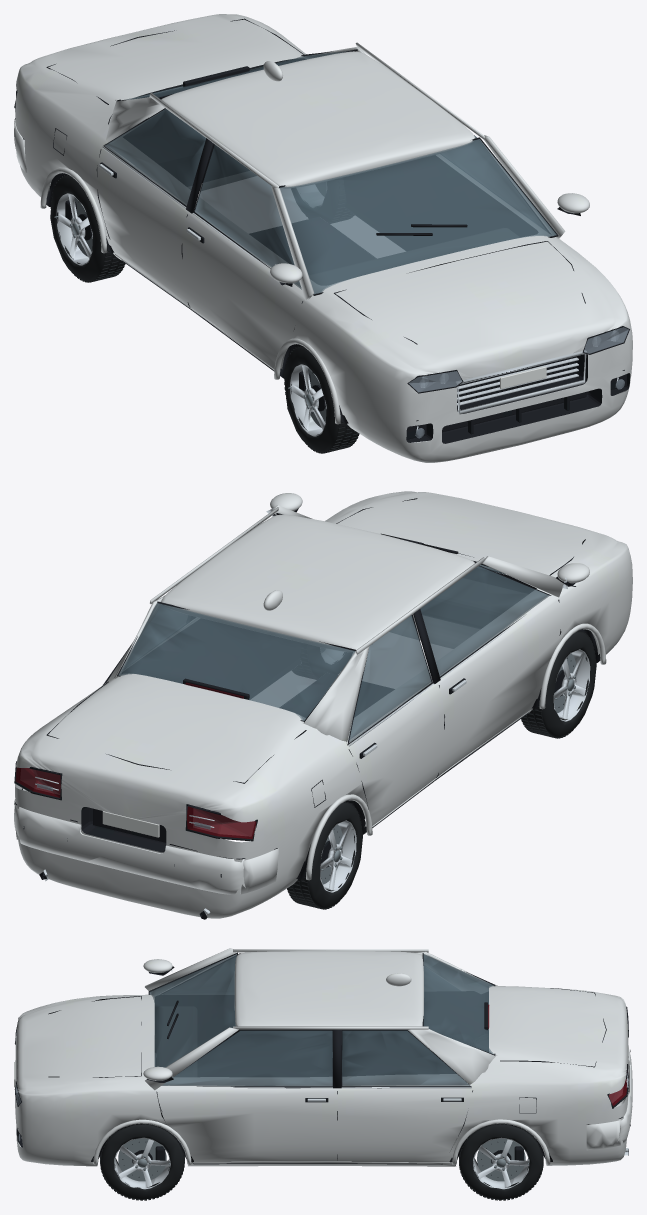
The model's file is car-sedan2.glb.
3 views of the same model, one above another, from view 1: azimuth 30°, elevation 25°; view 2: azimuth 150°, elevation 25°; view 3: azimuth 270°, elevation 25° (orthographic). The views are drawn at different scales.
Visible parts, largest first — view 1: Aerodynamic mirror painted cap, Front side door glass, Aerodynamic mirror lower housing, Beltline satin bead, 107 reused Sculpted_tyre.003, 107 reused Sculpted_tyre.001, Instrument panel, Clear reversing lens insert, 107 reused Alloy_five_spoke_rim.003, 107 reused Alloy_five_spoke_rim.001, 107 reused Sculpted_tyre.002, Brake rotor hat.003; view 2: Aerodynamic mirror painted cap, Front side door glass, Aerodynamic mirror lower housing, Instrument panel, 107 reused Sculpted_tyre.003, 107 reused Sculpted_tyre.001, Flush corner wrapping ruby lamp lens, Beltline satin bead, 107 reused Alloy_five_spoke_rim.003, 107 reused Alloy_five_spoke_rim.001, Brake rotor hat.003, 107 reused Sculpted_tyre (+1 smaller); view 3: Aerodynamic mirror painted cap, Front side door glass, Aerodynamic mirror lower housing, 107 reused Sculpted_tyre.002, 107 reused Sculpted_tyre, Instrument panel, 107 reused Alloy_five_spoke_rim, 107 reused Alloy_five_spoke_rim.002, 107 reused Center_cap, 107 reused Center_cap.002, Beltline satin bead, Brake rotor hat.002.
Part boxes in pixels (x1,y1,x2,y2): Aerodynamic mirror painted cap: (14,14,632,462); Front side door glass: (104,50,556,294); Aerodynamic mirror lower housing: (14,18,630,443); Beltline satin bead: (99,146,618,435); 107 reused Sculpted_tyre.003: (50,174,125,282); 107 reused Sculpted_tyre.001: (284,345,359,453); Instrument panel: (309,228,519,284); Clear reversing lens insert: (409,327,628,438); 107 reused Alloy_five_spoke_rim.003: (56,193,92,265); 107 reused Alloy_five_spoke_rim.001: (290,364,326,436); 107 reused Sculpted_tyre.002: (291,178,353,223); Brake rotor hat.003: (14,90,213,251); Aerodynamic mirror painted cap: (14,491,632,918); Front side door glass: (118,564,549,742); Aerodynamic mirror lower housing: (15,498,600,919); Instrument panel: (421,578,527,628); 107 reused Sculpted_tyre.003: (287,801,362,909); 107 reused Sculpted_tyre.001: (521,630,596,738); Flush corner wrapping ruby lamp lens: (15,682,256,839); Beltline satin bead: (20,508,567,916); 107 reused Alloy_five_spoke_rim.003: (320,820,356,892); 107 reused Alloy_five_spoke_rim.001: (553,649,590,721); Brake rotor hat.003: (185,609,440,878); 107 reused Sculpted_tyre: (292,643,351,679); Aerodynamic mirror painted cap: (15,948,632,1166); Front side door glass: (149,954,494,1086); Aerodynamic mirror lower housing: (15,952,630,1165); 107 reused Sculpted_tyre.002: (459,1123,543,1200); 107 reused Sculpted_tyre: (100,1123,184,1200); Instrument panel: (157,1007,196,1076); 107 reused Alloy_five_spoke_rim: (114,1137,170,1189); 107 reused Alloy_five_spoke_rim.002: (473,1137,529,1189); 107 reused Center_cap: (118,1138,169,1181); 107 reused Center_cap.002: (477,1138,528,1181); Beltline satin bead: (16,969,628,1155); Brake rotor hat.002: (333,1029,628,1177).
Size of the model in its own units: 2.17 by 1.55 by 4.84.
Materials: 10 (10 with a texture image).
